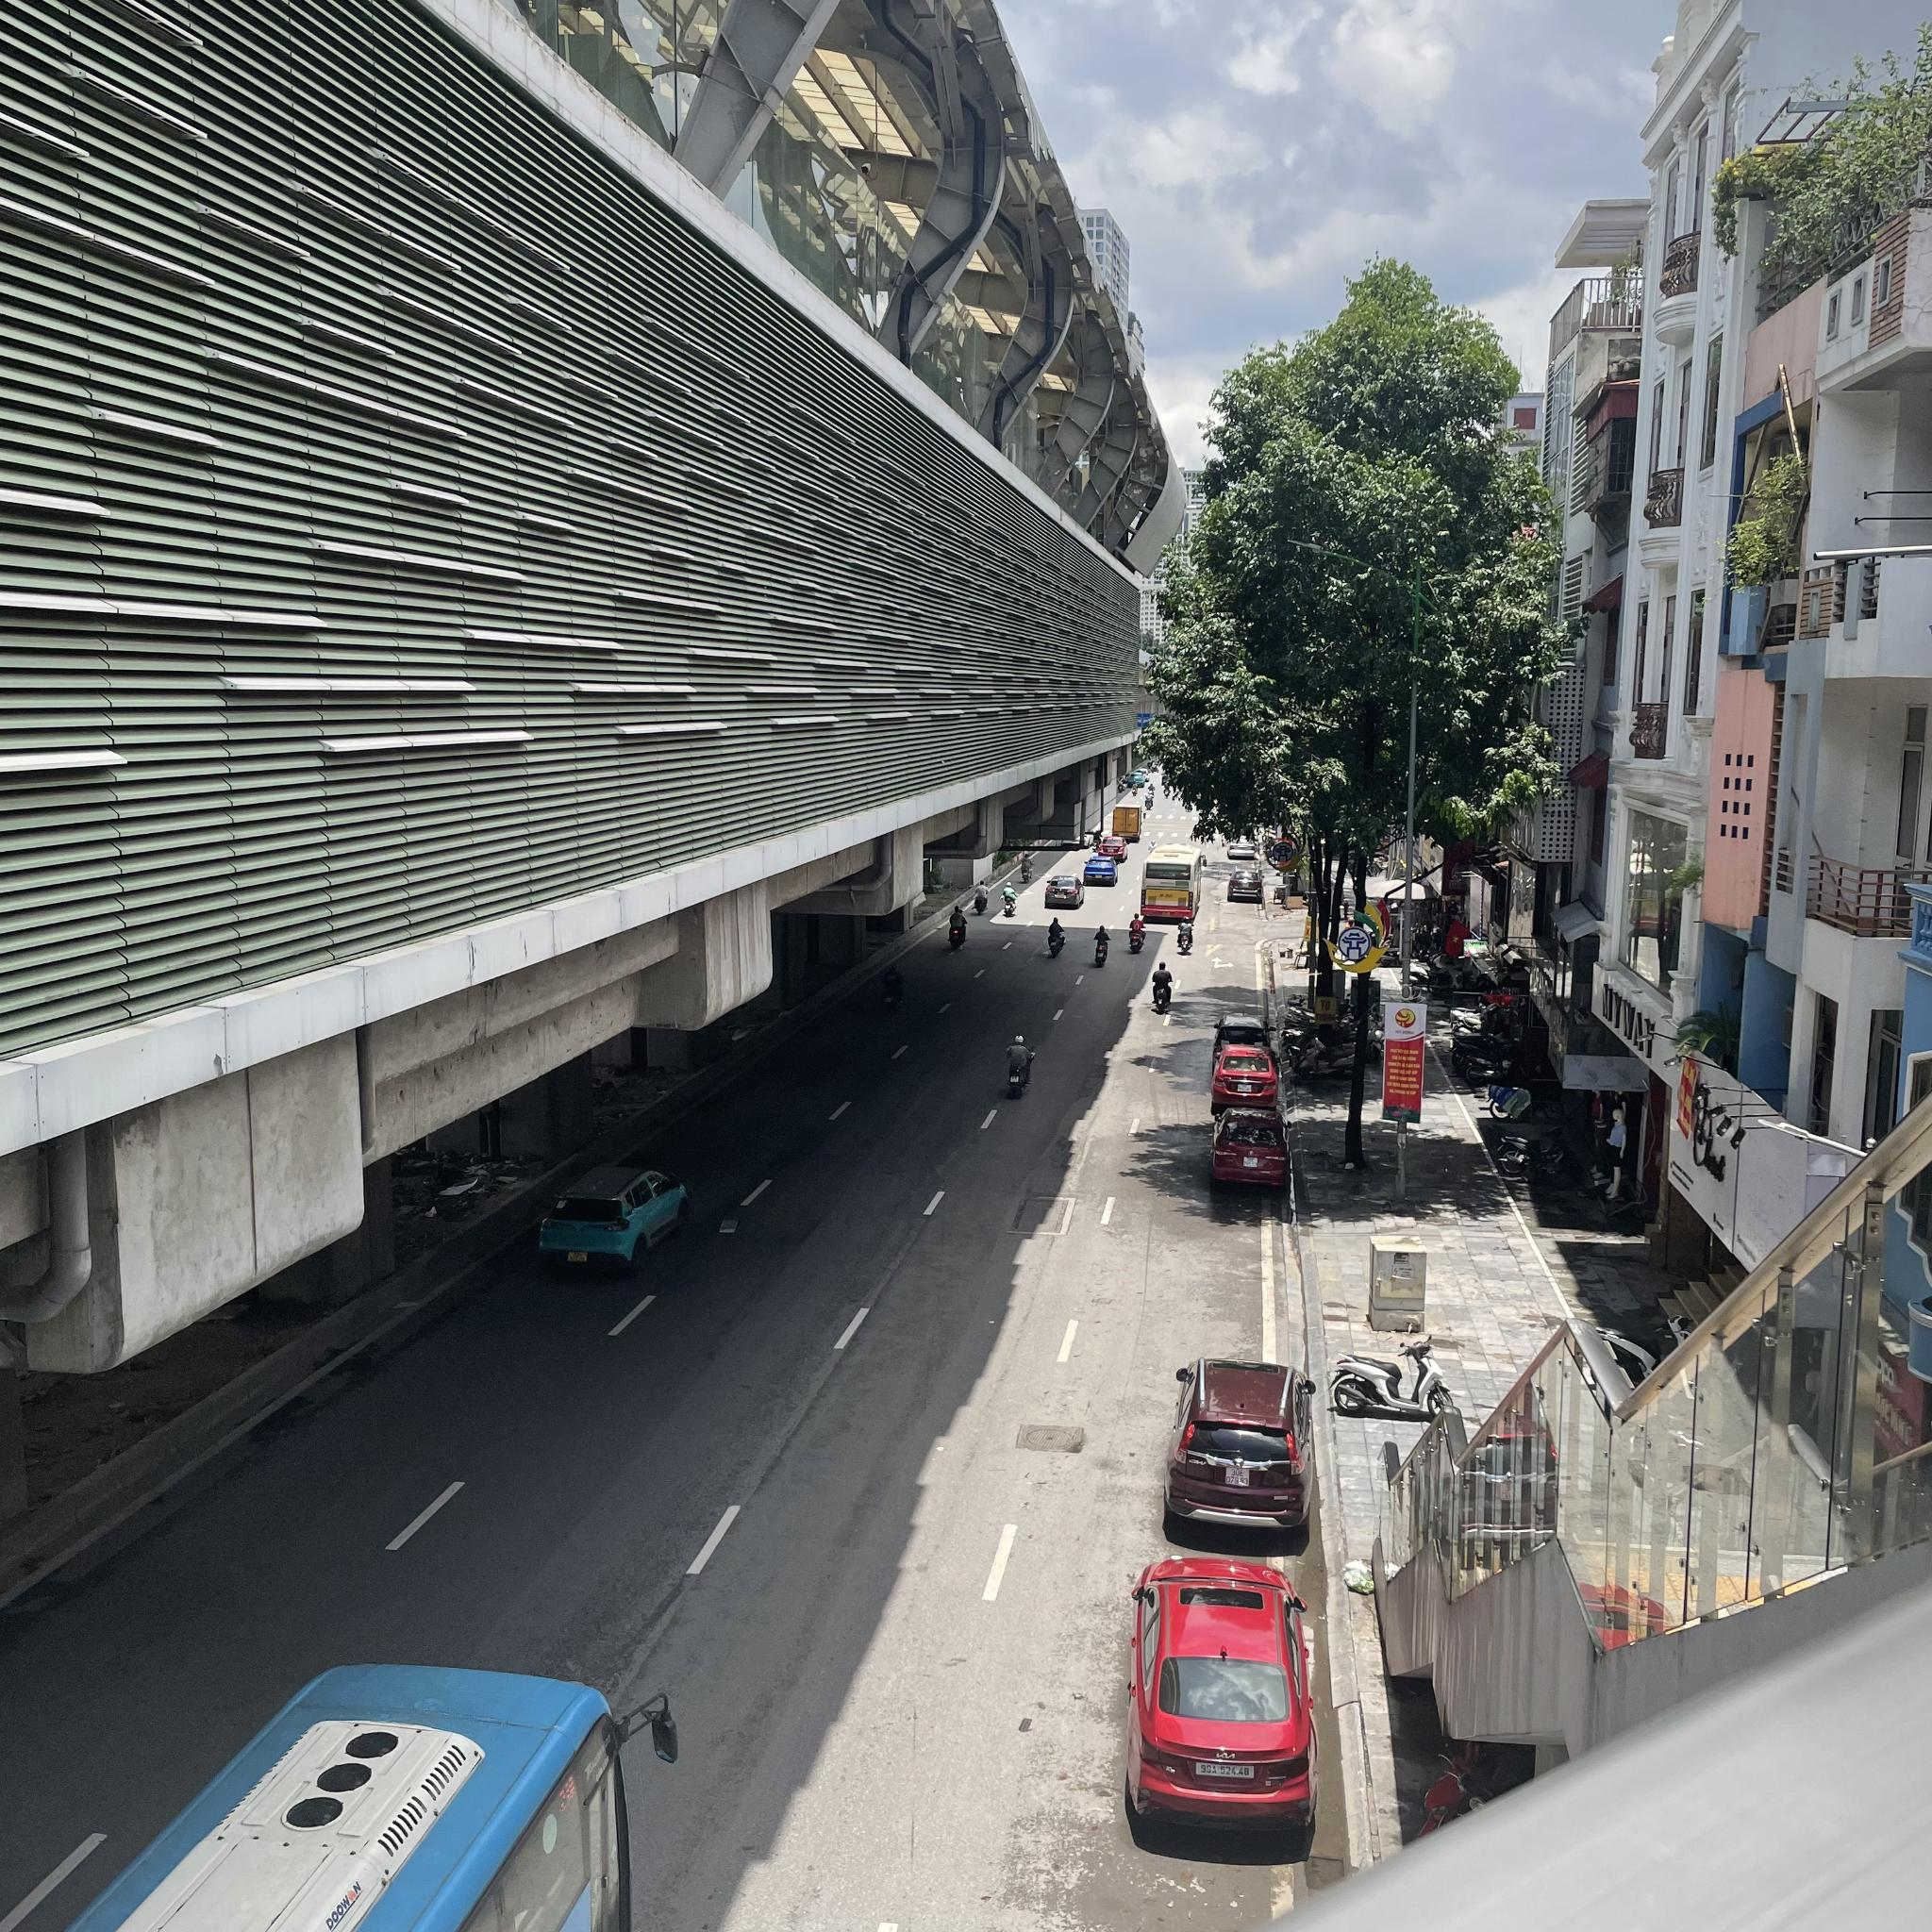car: (55, 1665, 626, 1932), (1138, 1559, 1325, 1854), (1168, 1355, 1315, 1541), (533, 1164, 690, 1274), (1214, 1109, 1290, 1196), (1141, 844, 1203, 920), (1212, 1047, 1277, 1108), (1228, 870, 1263, 904), (1046, 874, 1083, 906), (1083, 856, 1120, 885)
motobike: (1325, 1339, 1470, 1426), (1003, 1033, 1037, 1097), (878, 961, 906, 1012), (1152, 962, 1175, 1014), (1127, 915, 1146, 957), (1046, 920, 1069, 955), (1092, 927, 1111, 968), (948, 906, 966, 948), (1177, 916, 1194, 954), (973, 879, 989, 915), (1001, 883, 1016, 916), (1021, 851, 1033, 883)
